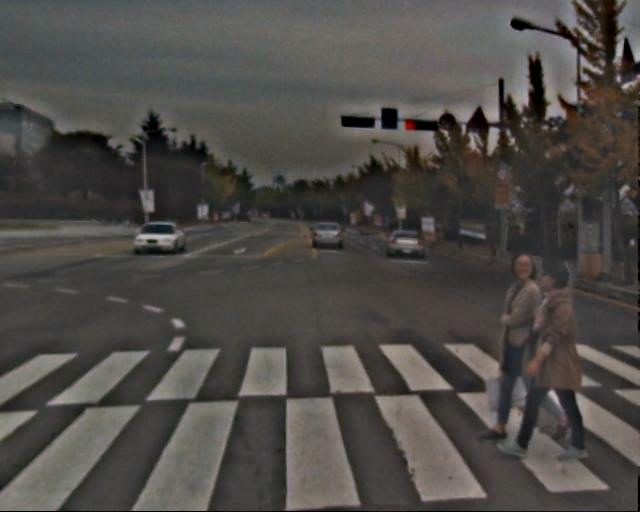person: (516, 254, 595, 462), (488, 241, 559, 447)
